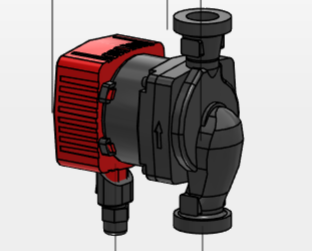Calio S / Calio BMS: (54, 3, 265, 240)
